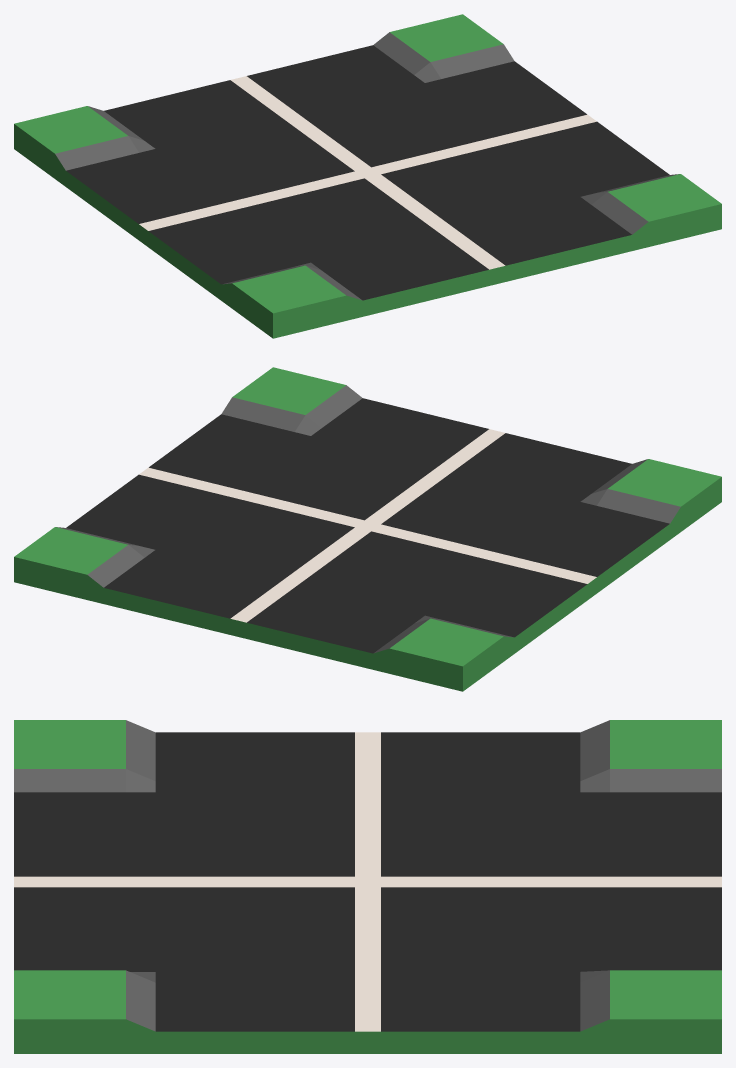
Rendered from skrzyzowanie.fbx.
The picture shows the model from 3 angles, top to bottom: view 1: azimuth 30°, elevation 25°; view 2: azimuth 150°, elevation 25°; view 3: azimuth 270°, elevation 25°; orthographic projection. The views are drawn at different scales.
Parts seen in each view (by area): view 1: Skrzyzowanie; view 2: Skrzyzowanie; view 3: Skrzyzowanie.
Boxes of the visible parts, x1,y1,x2,y2 form: Skrzyzowanie: (14,14,721,338); Skrzyzowanie: (14,367,721,691); Skrzyzowanie: (14,720,721,1053).
Bounding box in the file's own units: 250 × 13.47 × 250.
